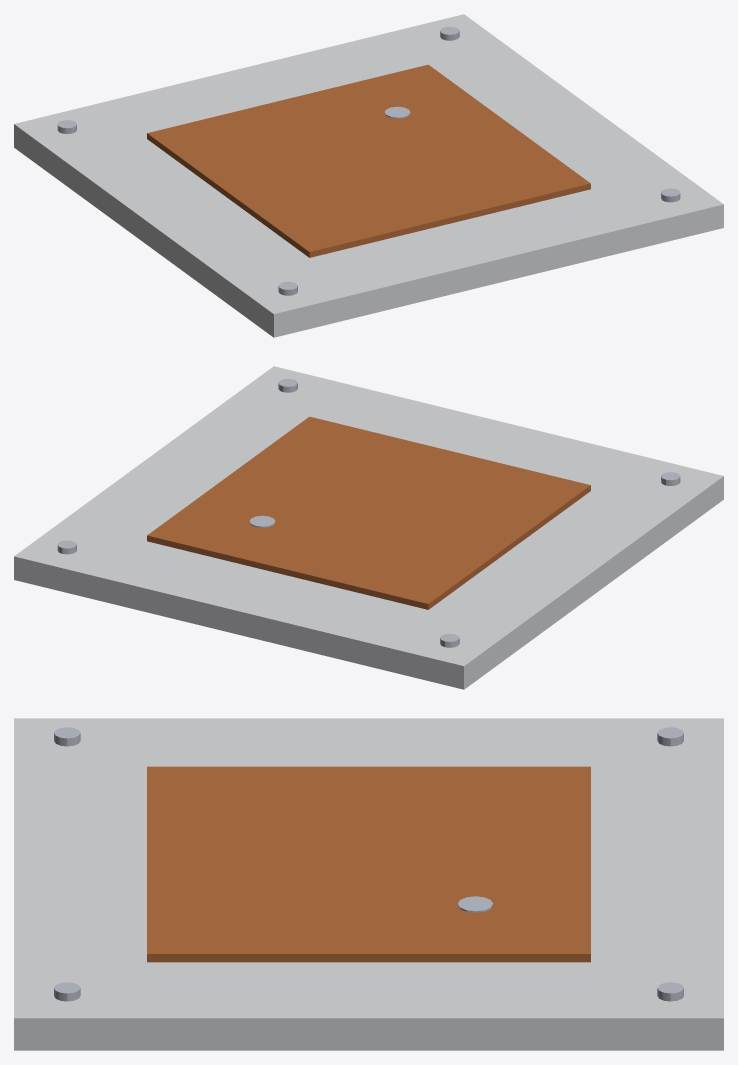
The model's file is sband.glb.
3 views of the same model, one above another, from view 1: azimuth 30°, elevation 25°; view 2: azimuth 150°, elevation 25°; view 3: azimuth 270°, elevation 25° (orthographic). The views are drawn at different scales.
Visible parts, largest first — view 1: sband_sub, sband_patch, sband; view 2: sband_sub, sband_patch, sband; view 3: sband_sub, sband_patch, sband.
Part boxes in pixels (x1,y1,x2,y2): sband_sub: [14, 14, 723, 337]; sband_patch: [147, 64, 590, 257]; sband: [57, 26, 680, 295]; sband_sub: [14, 366, 723, 689]; sband_patch: [147, 416, 590, 609]; sband: [57, 378, 680, 647]; sband_sub: [14, 718, 723, 1050]; sband_patch: [147, 766, 590, 962]; sband: [54, 727, 683, 1001].
Size of the model in its own units: 0.08 by 0.0052 by 0.08.
